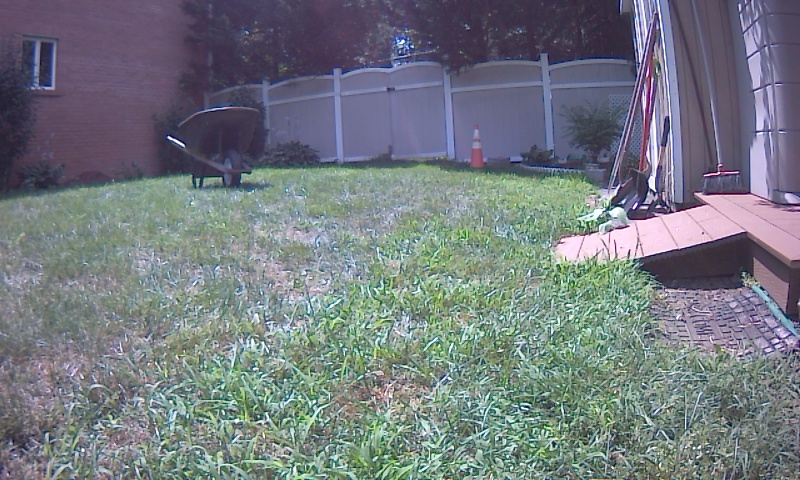wheelbarrow: (131, 75, 297, 217)
